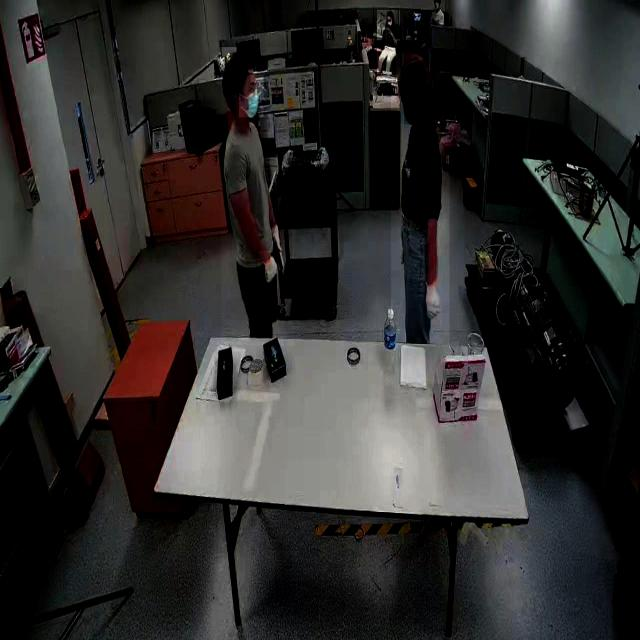face_mask: (239, 75, 263, 117)
hand_glove: (269, 221, 293, 281), (418, 275, 443, 325), (258, 251, 278, 295)
head_nohelmet: (396, 54, 431, 86), (220, 47, 257, 74), (386, 9, 393, 16), (350, 9, 358, 14)
person: (221, 47, 295, 347), (391, 51, 450, 346), (377, 10, 401, 81)
